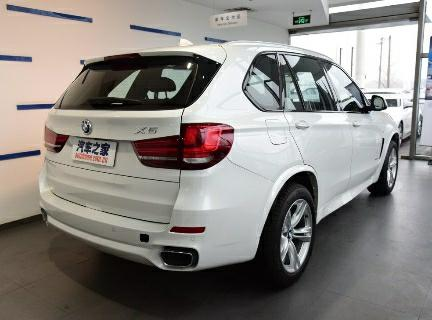car: (26, 39, 406, 288)
